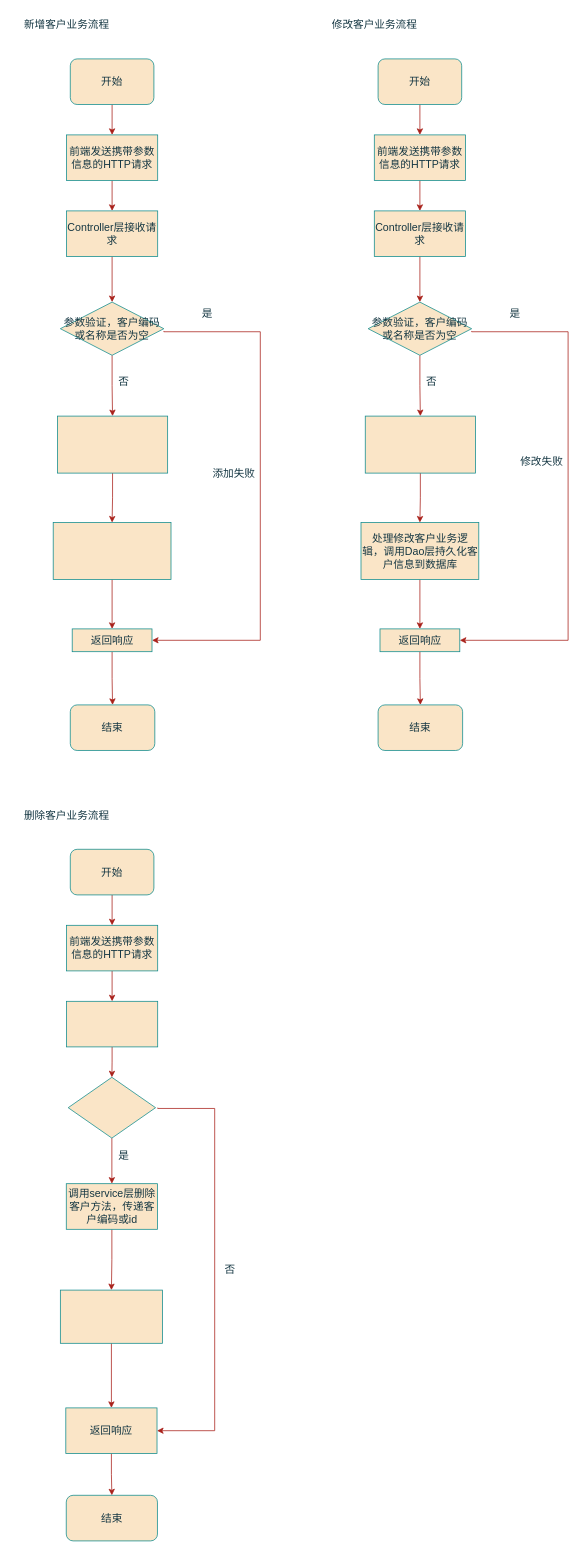
Some shapes in this 587 by 1554 pixel diagram are drawn without their labels. Each missing label, with the centre of its shape:
"Controller层接收删除客户请求" belongs at (x=112, y=1024).
"发送系统提醒" belongs at (x=111, y=1107).
"处理删除客户业务逻辑，调用Dao层删除数据库客户信息" belongs at (x=111, y=1316).
"处理新增客户业务逻辑，调用Dao层持久化客户信息到数据库" belongs at (x=111, y=551).
"调用service层修改客户方法，传递客户信息" belongs at (x=419, y=444).
"调用service层新增客户方法，传递客户信息" belongs at (x=112, y=444).
